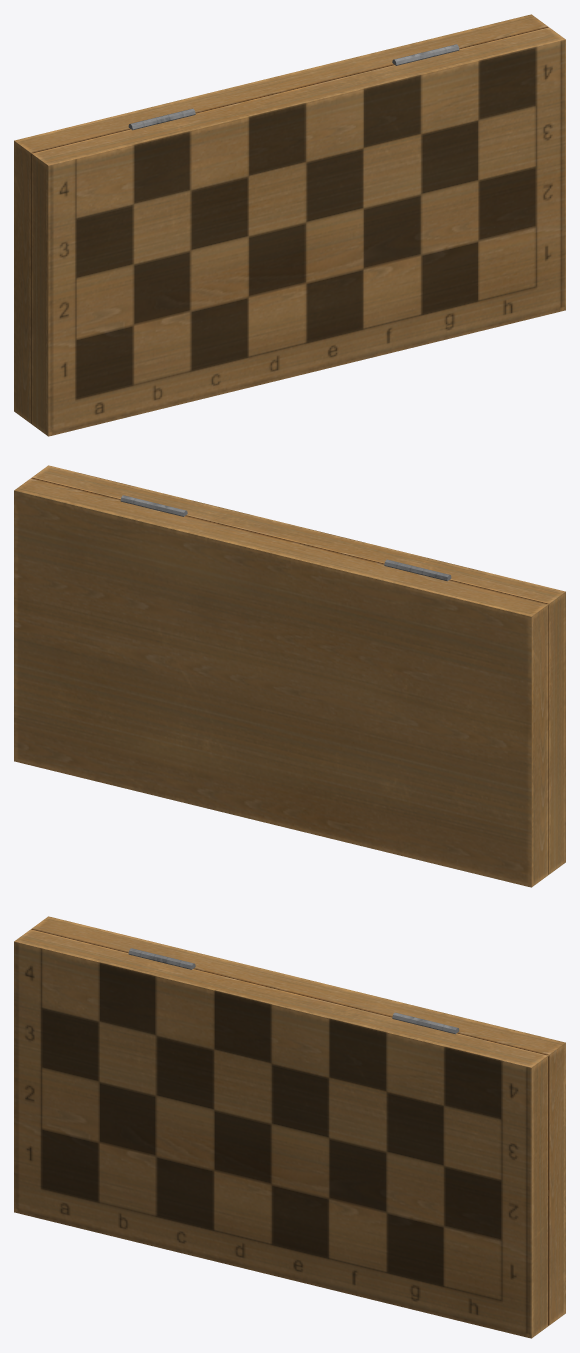
File: SM_Souvenirs01A.fbx
The picture shows the model from 3 angles, top to bottom: view 1: azimuth 30°, elevation 25°; view 2: azimuth 150°, elevation 25°; view 3: azimuth 330°, elevation 25°; orthographic projection.
Visible parts, largest first — view 1: SM_Souvenirs01A_LOD0; view 2: SM_Souvenirs01A_LOD0; view 3: SM_Souvenirs01A_LOD0.
Boxes of the visible parts, box(x1,y1,x2,y2) form: SM_Souvenirs01A_LOD0: box(14, 14, 565, 436); SM_Souvenirs01A_LOD0: box(14, 465, 565, 887); SM_Souvenirs01A_LOD0: box(14, 916, 565, 1338).
Bounding box in the file's own units: 40.17 × 20.73 × 4.63.
